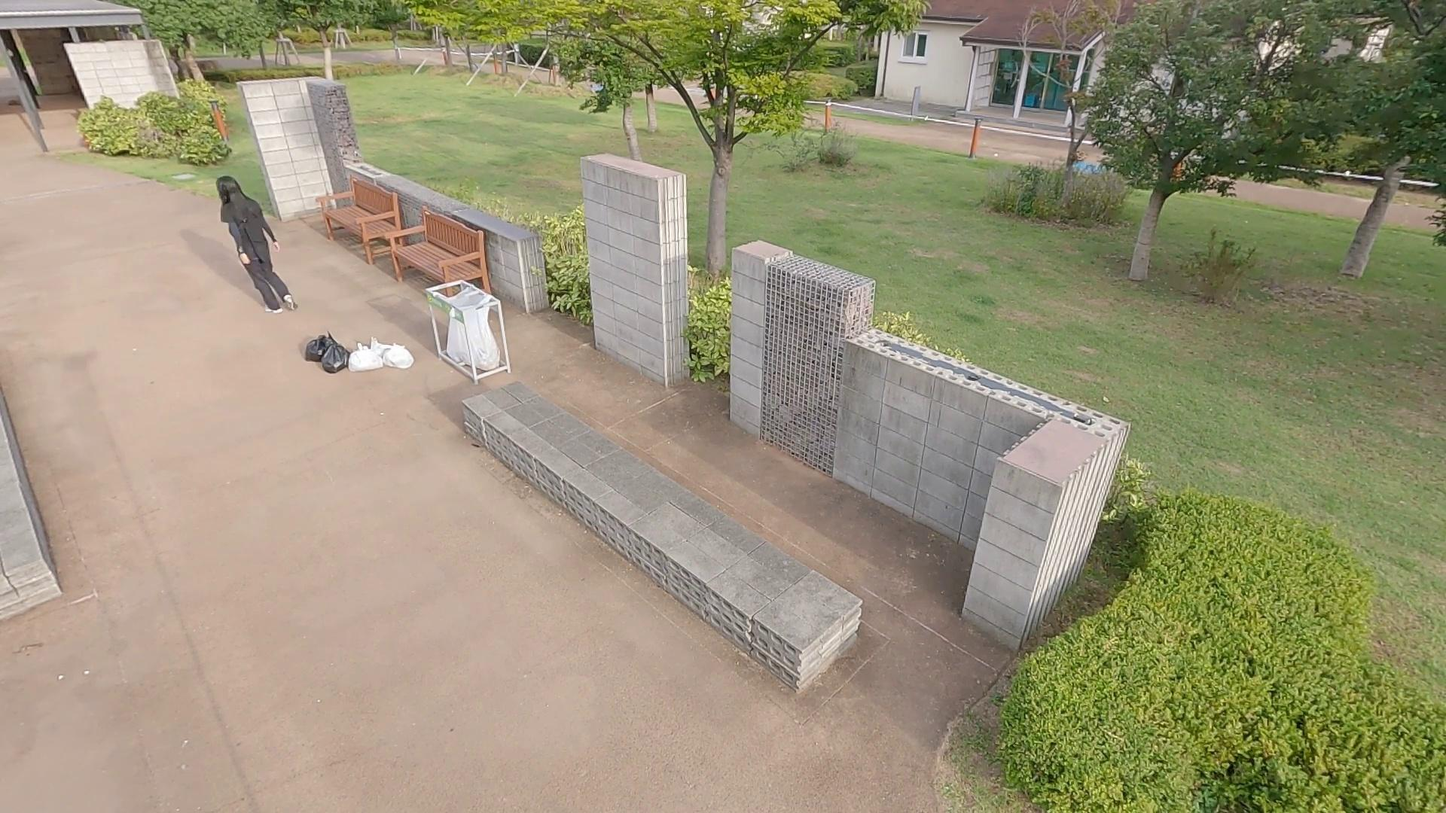person: (212, 173, 299, 319)
trash: (304, 328, 342, 362), (348, 341, 384, 374), (319, 340, 350, 376), (384, 341, 415, 370), (369, 335, 393, 358)
